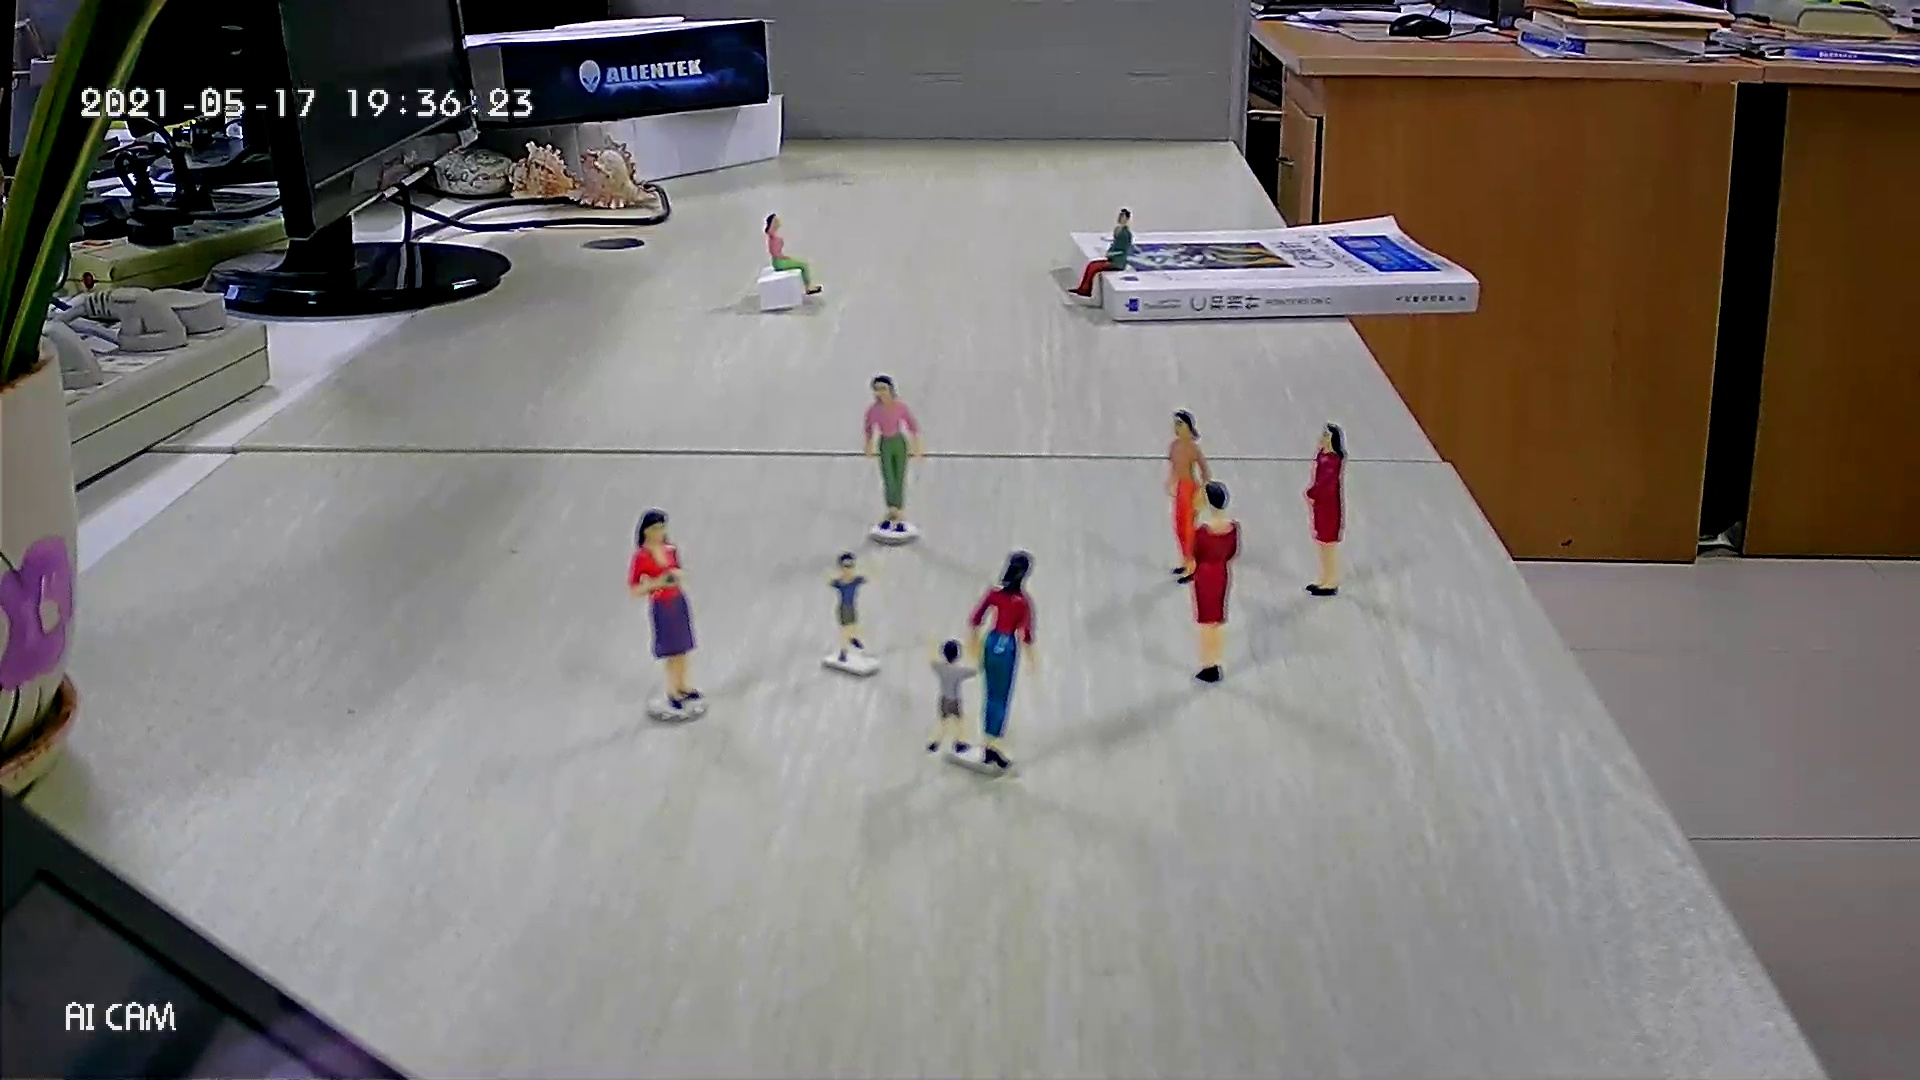person: (622, 504, 709, 711), (963, 551, 1041, 769), (1188, 478, 1242, 686), (860, 373, 927, 534), (1299, 418, 1350, 598), (1160, 409, 1212, 587), (918, 631, 983, 756), (816, 546, 881, 662), (1063, 206, 1136, 300), (761, 209, 826, 298)
